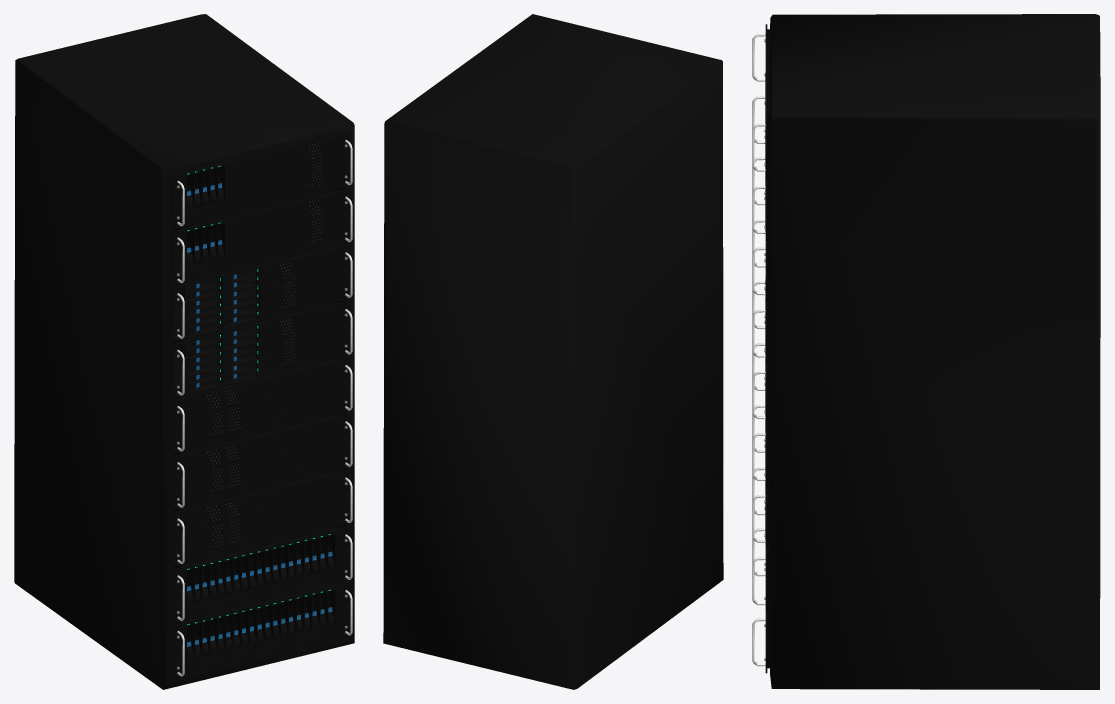
Rendered from server_racking_system.glb.
The picture shows the model from 3 angles, left to right: view 1: azimuth 30°, elevation 25°; view 2: azimuth 150°, elevation 25°; view 3: azimuth 270°, elevation 25°; orthographic projection. The views are drawn at different scales.
Parts seen in each view (by area): view 1: Box040, Box041, Box047, Box049, Box045, Box051, Box053, Box054, Box055, Box043, Box046, RackMount Server033 (+12 smaller); view 2: Box040; view 3: Box040, RackMount Server030.
Part boxes in pixels (x1,y1,x2,y2): Box040: [14, 14, 354, 689]; Box041: [259, 248, 338, 319]; Box047: [259, 305, 338, 376]; Box049: [261, 417, 338, 488]; Box045: [261, 361, 338, 432]; Box051: [261, 474, 338, 544]; Box053: [184, 380, 261, 451]; Box054: [184, 436, 261, 507]; Box055: [184, 492, 261, 563]; Box043: [261, 135, 338, 206]; Box046: [261, 192, 338, 263]; RackMount Server033: [172, 301, 349, 398]; Box040: [383, 14, 723, 689]; Box040: [770, 14, 1100, 689]; RackMount Server030: [765, 24, 770, 178].
Bounding box in the file's own units: 0.7992 × 2.07 × 1.13.
Materials: 4 (4 with a texture image).
